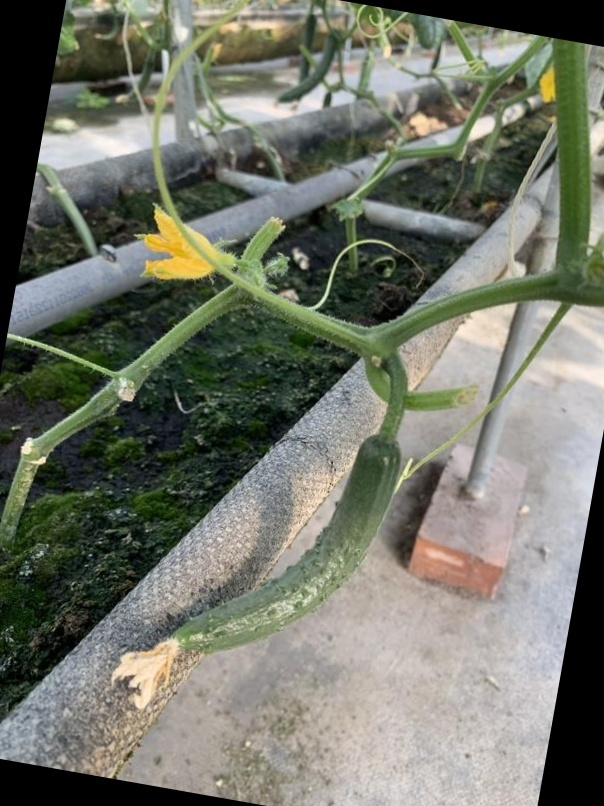bud: (138, 203, 239, 282)
growth: (125, 428, 403, 674)
